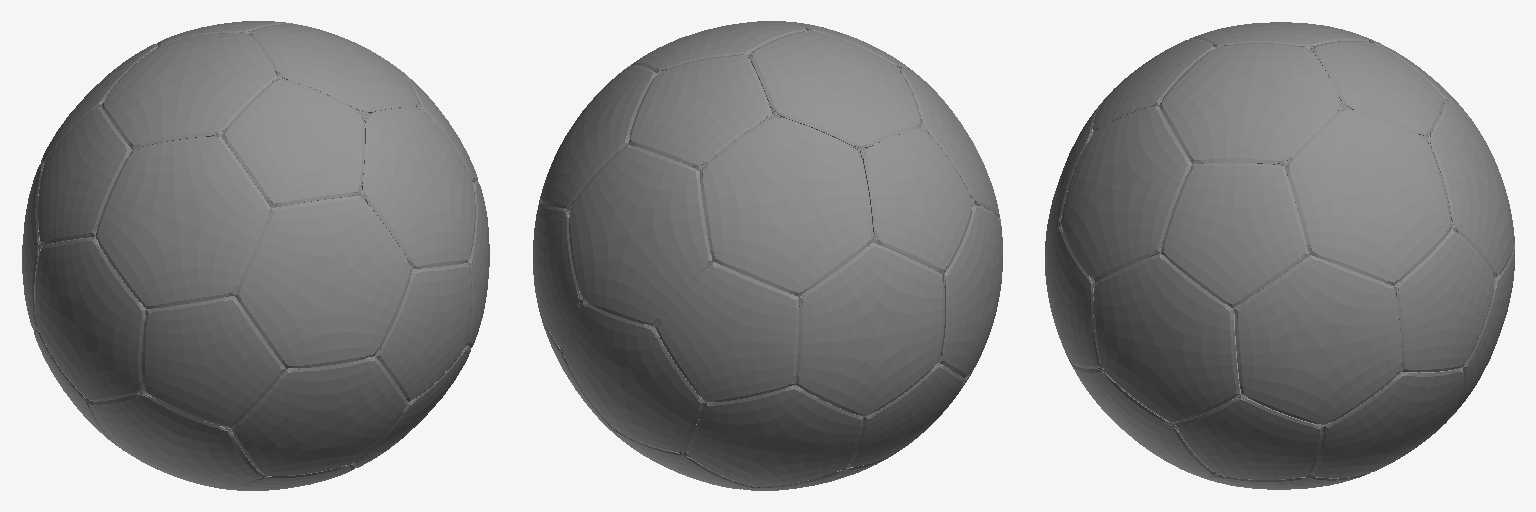
File: ball.obj
3 views of the same model, side by side, from view 1: azimuth 30°, elevation 25°; view 2: azimuth 150°, elevation 25°; view 3: azimuth 270°, elevation 25° (orthographic).
Visible parts, largest first — view 1: Old_ball; view 2: Old_ball; view 3: Old_ball.
Boxes of the visible parts, box(x1,y1,x2,y2) form: Old_ball: box(22, 21, 489, 490); Old_ball: box(533, 21, 1002, 490); Old_ball: box(1045, 22, 1514, 489).
Bounding box in the file's own units: 1.37 × 1.38 × 1.38.